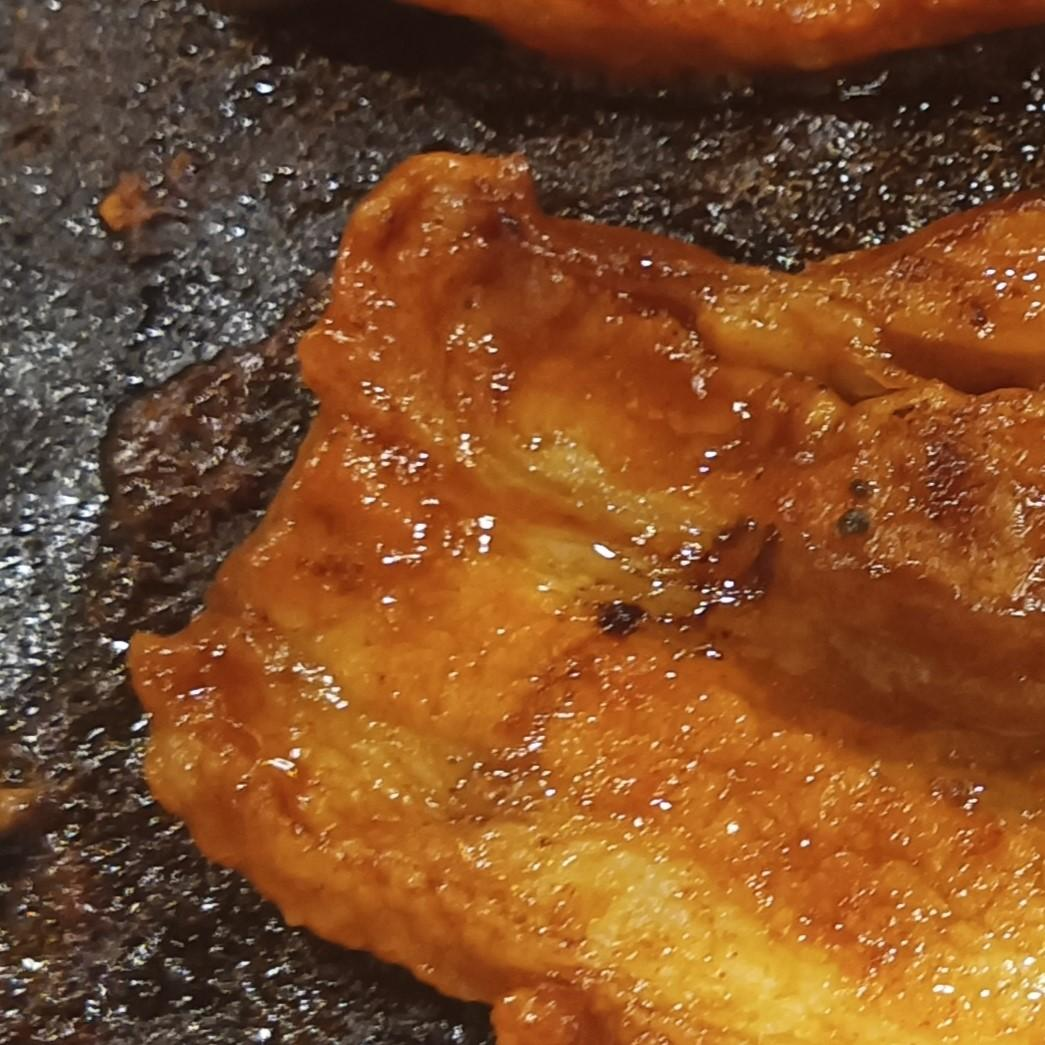Well-Cooked: (129, 153, 1044, 1044)
